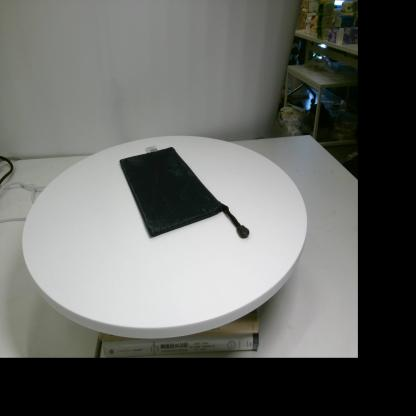Stationery: (119, 145, 250, 238)
